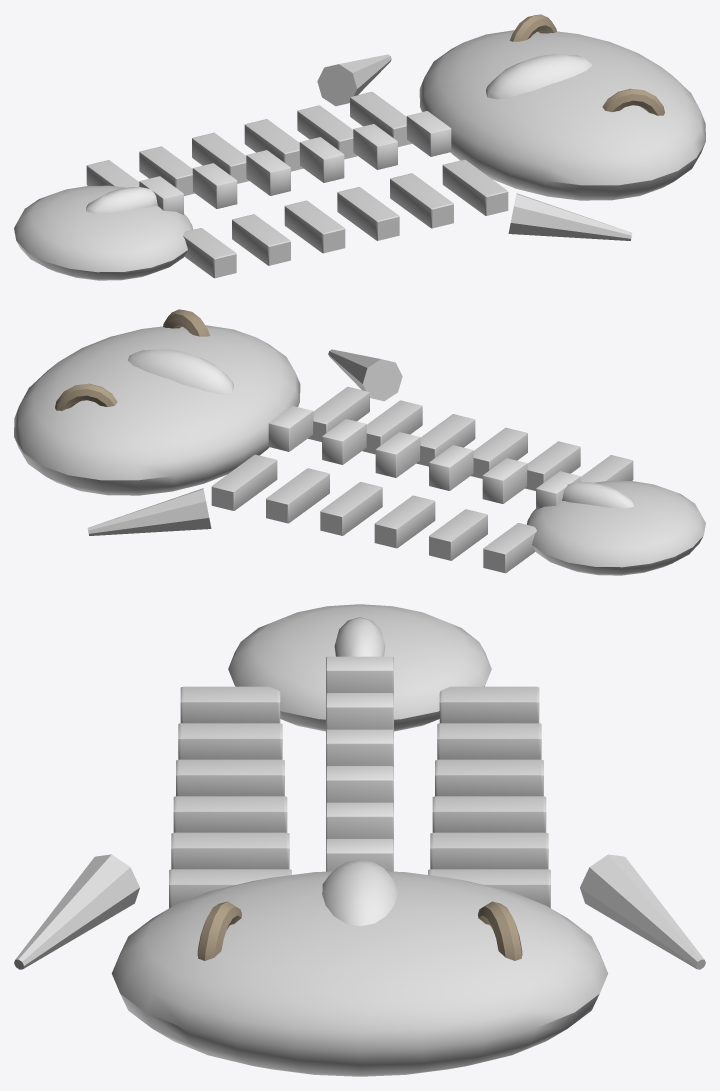
Rendered from trilobite.fbx.
The picture shows the model from 3 angles, top to bottom: view 1: azimuth 30°, elevation 25°; view 2: azimuth 150°, elevation 25°; view 3: azimuth 270°, elevation 25°; orthographic projection. The views are drawn at different scales.
Parts seen in each view (by area): view 1: trilobite; view 2: trilobite; view 3: trilobite.
Boxes of the visible parts, left/top/right/bottom form: trilobite: left=14, top=14, right=705, bottom=280; trilobite: left=14, top=309, right=705, bottom=575; trilobite: left=14, top=604, right=705, bottom=1076.
Size of the model in its own units: 3.4 by 0.549 by 2.24.
